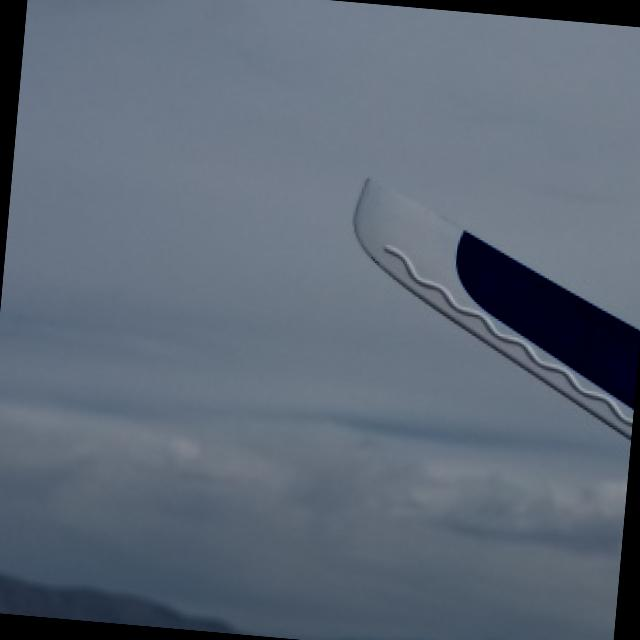healthy: (356, 177, 640, 435)
